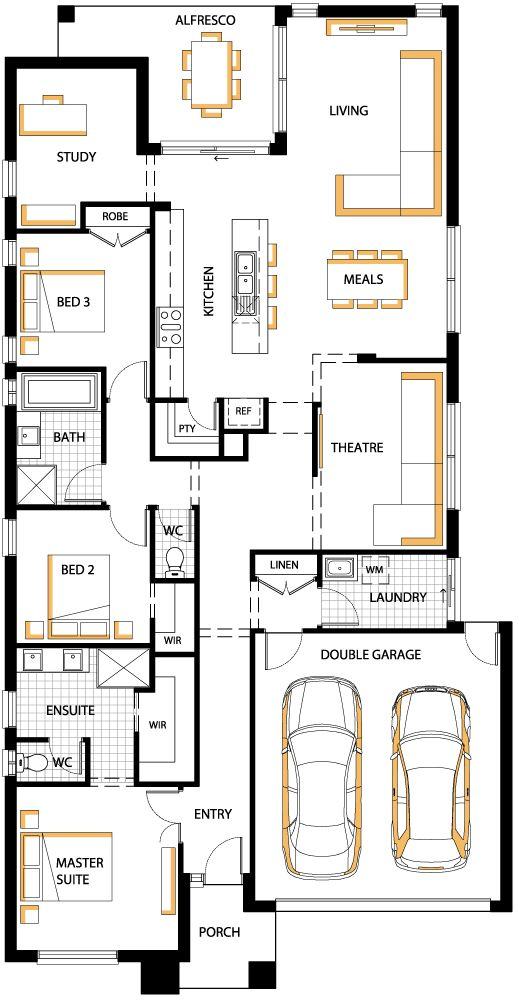wall: (249, 629, 256, 876), (6, 58, 148, 69), (5, 556, 16, 692), (149, 202, 156, 402), (6, 404, 17, 519), (318, 5, 414, 18), (137, 56, 148, 154), (250, 550, 458, 555), (5, 58, 15, 160), (447, 114, 457, 216), (447, 8, 457, 110), (5, 857, 15, 959), (3, 778, 13, 880), (6, 265, 17, 337), (446, 331, 457, 401), (501, 711, 510, 794), (502, 805, 511, 888), (179, 878, 188, 961), (501, 625, 510, 708), (16, 643, 153, 648), (268, 131, 292, 159), (15, 365, 106, 372), (303, 628, 462, 632), (120, 952, 179, 962), (149, 505, 156, 584), (272, 1, 293, 27), (358, 358, 459, 363), (149, 456, 249, 461), (101, 366, 106, 462), (150, 364, 155, 460), (194, 509, 199, 605), (193, 617, 198, 713), (312, 401, 318, 475), (149, 617, 155, 690), (5, 198, 16, 237), (244, 874, 255, 913), (218, 399, 224, 460), (6, 229, 90, 233), (81, 202, 165, 206), (133, 735, 139, 790), (242, 901, 274, 911), (219, 429, 270, 434), (316, 550, 321, 586), (263, 398, 268, 433), (243, 429, 249, 457), (357, 354, 376, 362), (134, 687, 155, 692)
